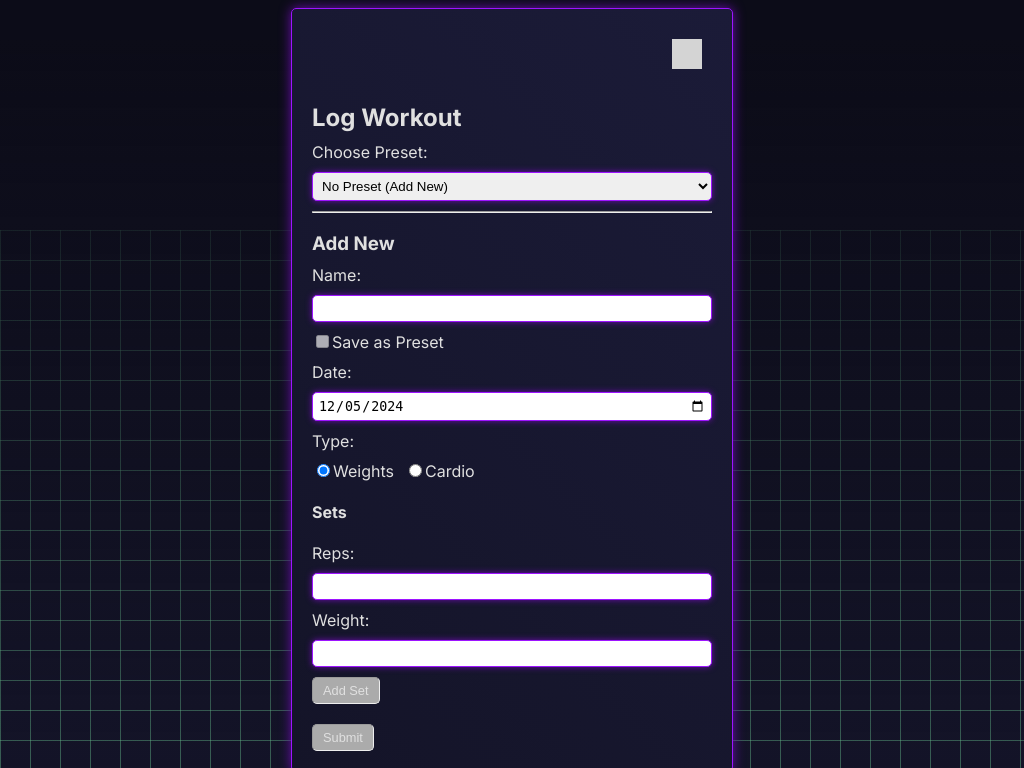
Scenario: WorkoutEntryPage Component with Mocked API › disables 'Save as Preset' checkbox when the name is empty
This screenshot has width=1024, height=768.
Expected: the checkbox labelled "Save as Preset" is disabled, [316,335,329,348]
# Input a name
Step 1. Type "Workout 1" into the field labelled "Name:" → (512, 308), box [312,295,712,322]
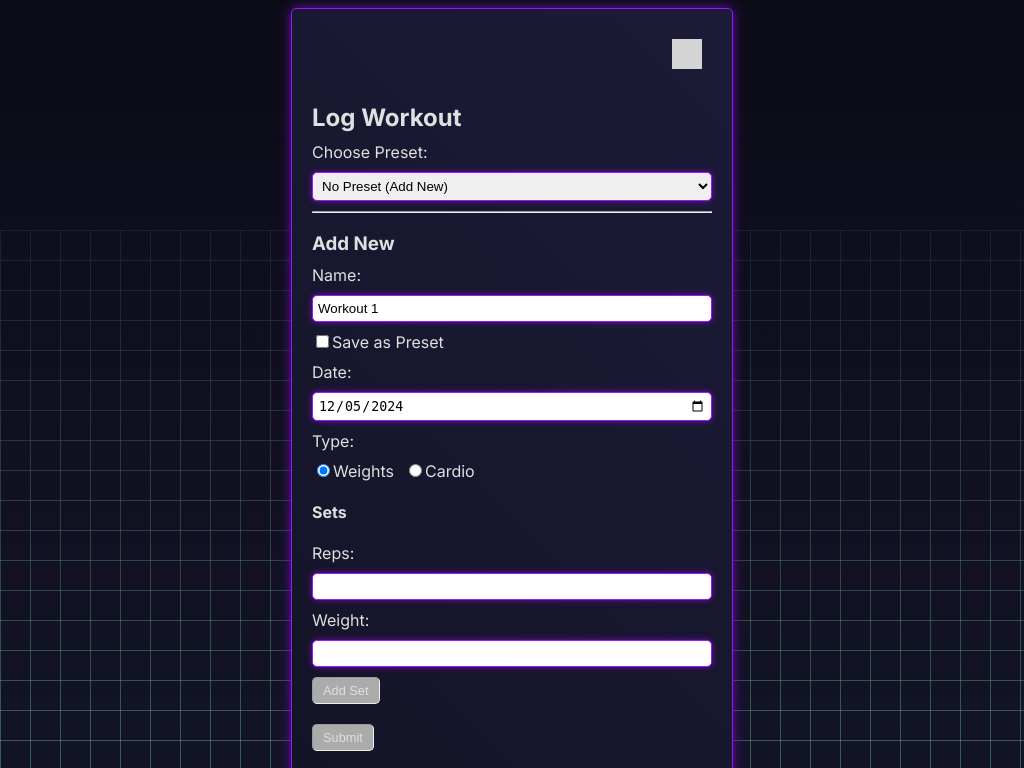
Expected: the checkbox labelled "Save as Preset" is enabled, [316,335,329,348]
# Clear the name
Step 2. Clear the field labelled "Name:" → (512, 308), box [312,295,712,322]
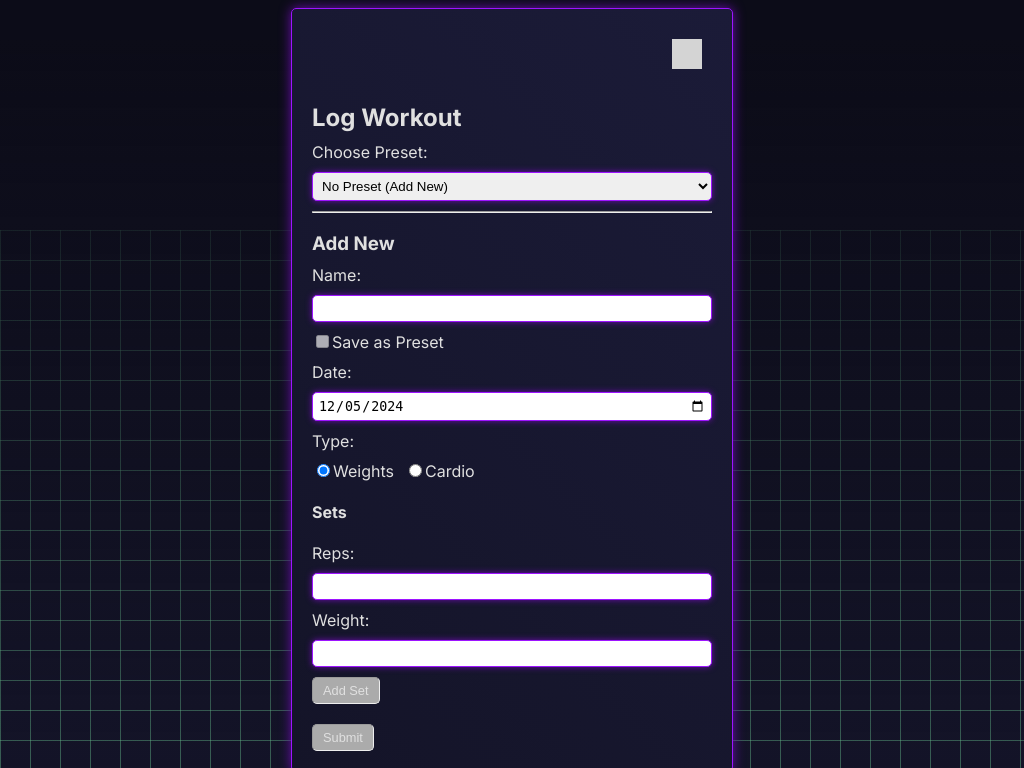
Expected: the checkbox labelled "Save as Preset" is disabled, [316,335,329,348]
